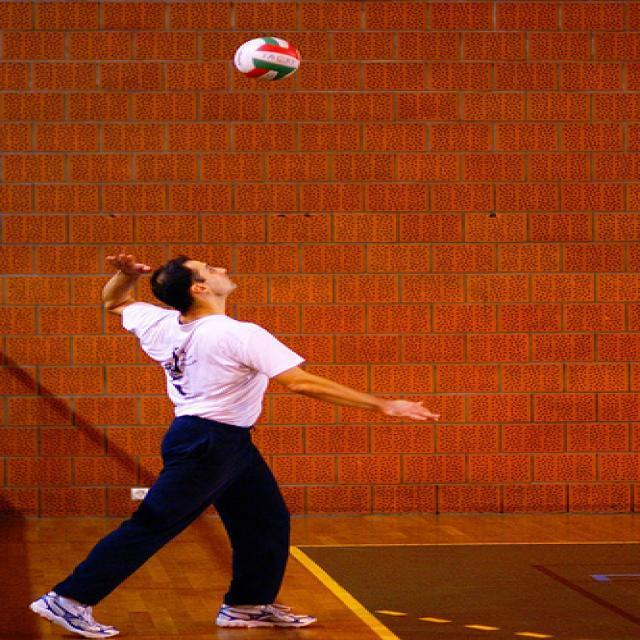volleyball: (234, 36, 302, 81)
